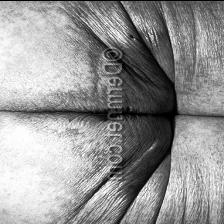Non-Cancerous Skin Condition: (0, 26, 103, 168), (128, 31, 192, 104), (124, 146, 180, 202)
